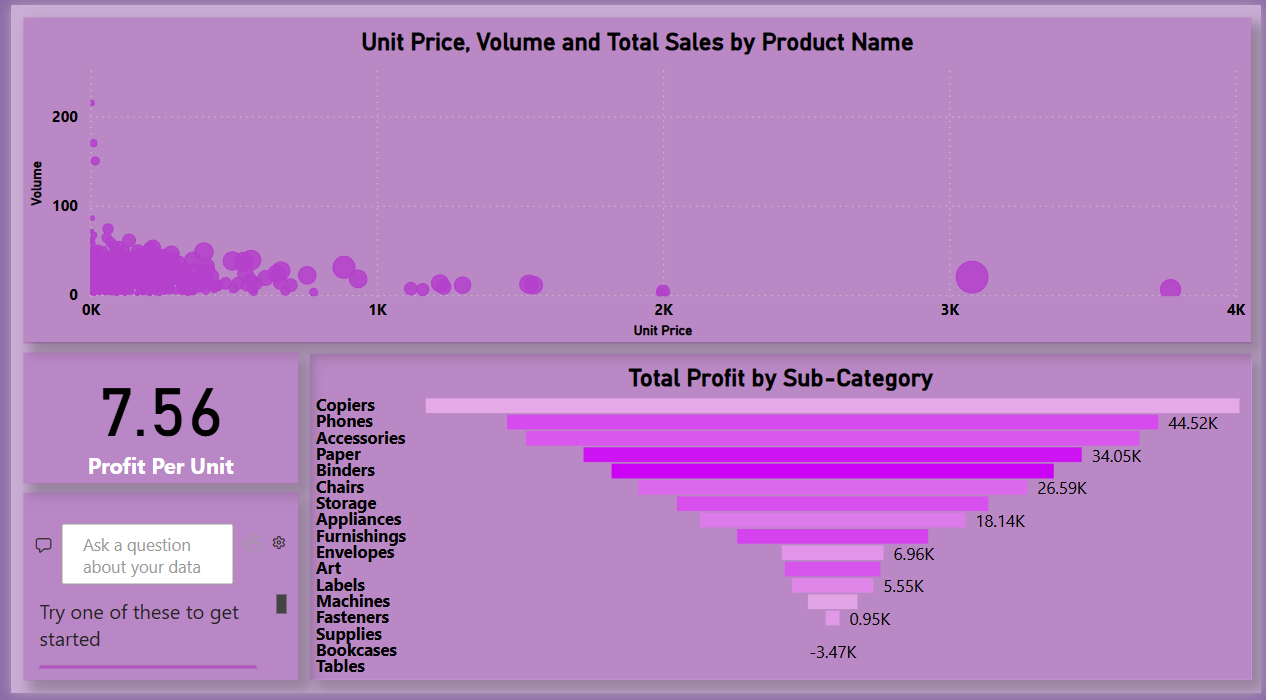

The page's visual inventory and layout, read from the dashboard file:
{"tool":"powerbi","page":{"name":"page 5","canvas":[1000,550],"ordinal":4},"visuals":[{"type":"shape","box":[239,279,754,261],"z":0},{"type":"shape","box":[10,10,983,261],"z":1000},{"type":"scatterChart","fields":{"X":["Sample - Superstore.Unit Price"],"Y":["Sample - Superstore.Volume"],"Category":["Sample - Superstore.Product Name"],"Size":["Sample - Superstore.Total Sales"]},"box":[10,10,983,260],"z":2000},{"type":"funnel","fields":{"Category":["Sample - Superstore.Sub-Category"],"Y":["Sample - Superstore.Total Profit"]},"box":[239,279,754,261],"z":3000},{"type":"card","fields":{"Values":["Sample - Superstore.Profit Per Unit"]},"box":[10,278.2,220,104.5],"z":4000},{"type":"qnaVisual","box":[10,390,220,150],"z":5000}]}

Visuals, with their boxes in screenshot pixels (x1, y1, x2, y2), scaled from the page's 1000x550 canvas onto the 1266x700 screenshot:
shape: rect(303, 355, 1257, 687)
shape: rect(13, 13, 1257, 345)
scatterChart - Sample - Superstore.Unit Price x Sample - Superstore.Volume: rect(13, 13, 1257, 344)
funnel - Sample - Superstore.Sub-Category x Sample - Superstore.Total Profit: rect(303, 355, 1257, 687)
card - Sample - Superstore.Profit Per Unit: rect(13, 354, 291, 487)
qnaVisual: rect(13, 496, 291, 687)
